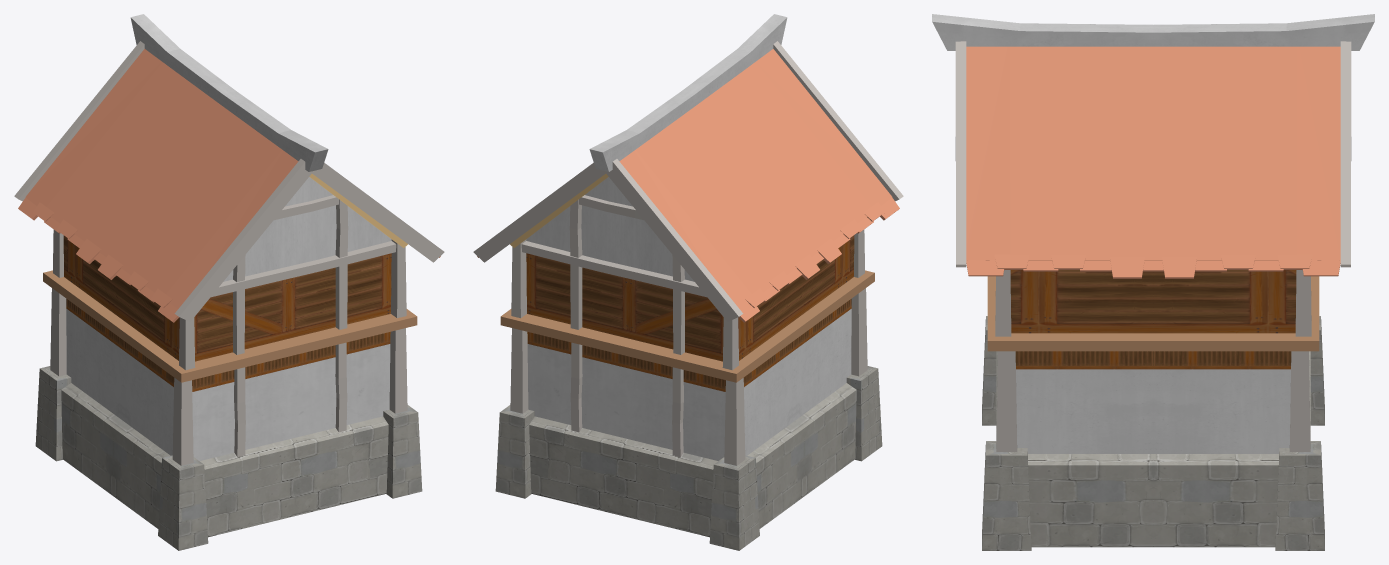
Rendered from Building_A_06.fbx.
The picture shows the model from 3 angles, left to right: view 1: azimuth 30°, elevation 25°; view 2: azimuth 150°, elevation 25°; view 3: azimuth 270°, elevation 25°; orthographic projection. The views are drawn at different scales.
Visible parts, largest first — view 1: Building_A_06; view 2: Building_A_06; view 3: Building_A_06.
Part boxes in pixels (x1=…): Building_A_06: x1=14, y1=14, x2=444, y2=550; Building_A_06: x1=473, y1=14, x2=903, y2=550; Building_A_06: x1=932, y1=14, x2=1374, y2=550.
Size of the model in its own units: 1243 by 1673 by 1452.
